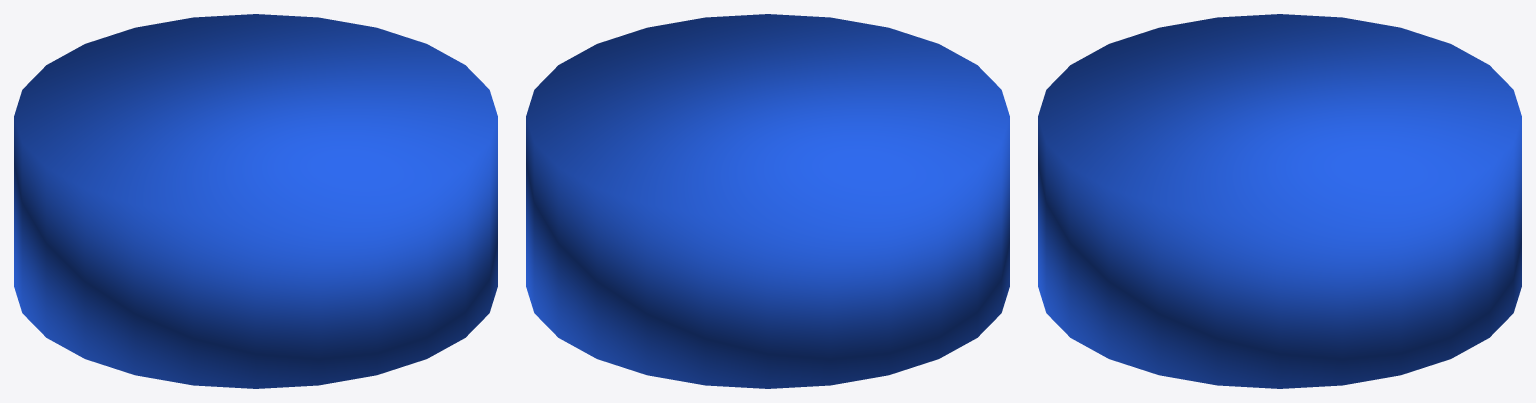
File: TutPad_BtnX.obj
The picture shows the model from 3 angles, left to right: view 1: azimuth 30°, elevation 25°; view 2: azimuth 150°, elevation 25°; view 3: azimuth 270°, elevation 25°; orthographic projection.
Visible parts, largest first — view 1: TutPad_BtnX; view 2: TutPad_BtnX; view 3: TutPad_BtnX.
Boxes of the visible parts, <box> form: TutPad_BtnX: <box>14,14,497,388</box>; TutPad_BtnX: <box>526,14,1009,388</box>; TutPad_BtnX: <box>1038,14,1521,388</box>.
Bounding box in the file's own units: 0.09 × 0.035 × 0.09.
Materials: 1 (1 with a texture image).
